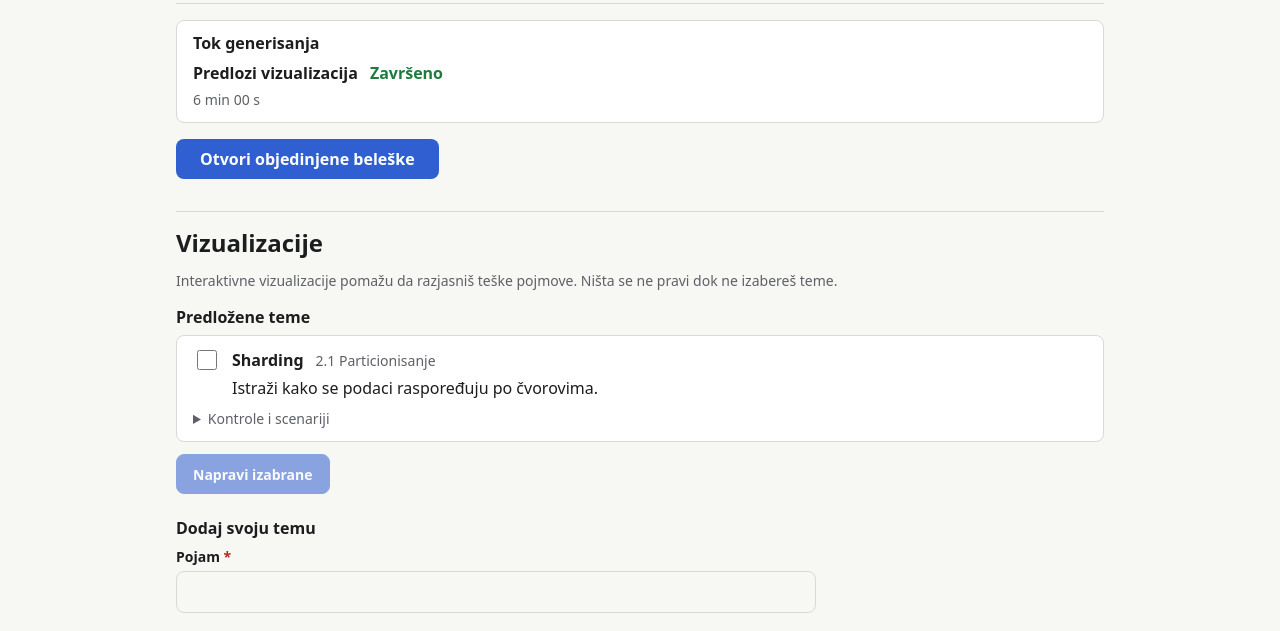
Test case: VizSection (class page) › shows a server error when building cannot start
(page scrolled)
Click the checkbox: (207, 360) [197,350,217,370]
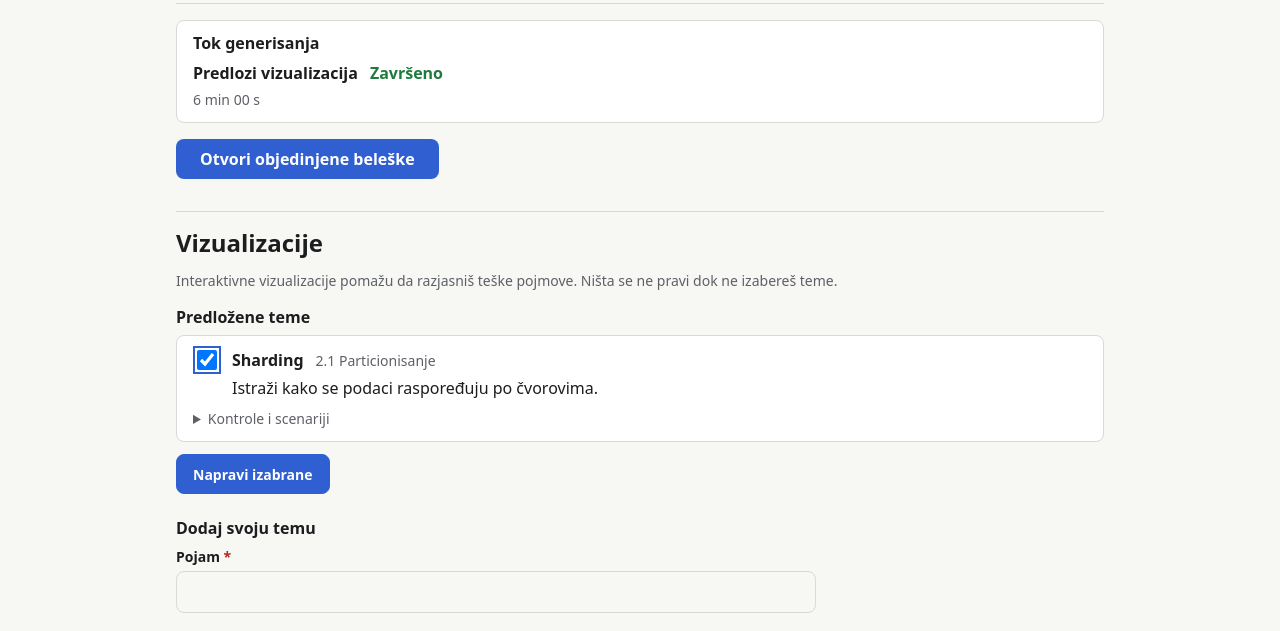
Click the button "Napravi izabrane": (253, 474) [176,454,330,494]
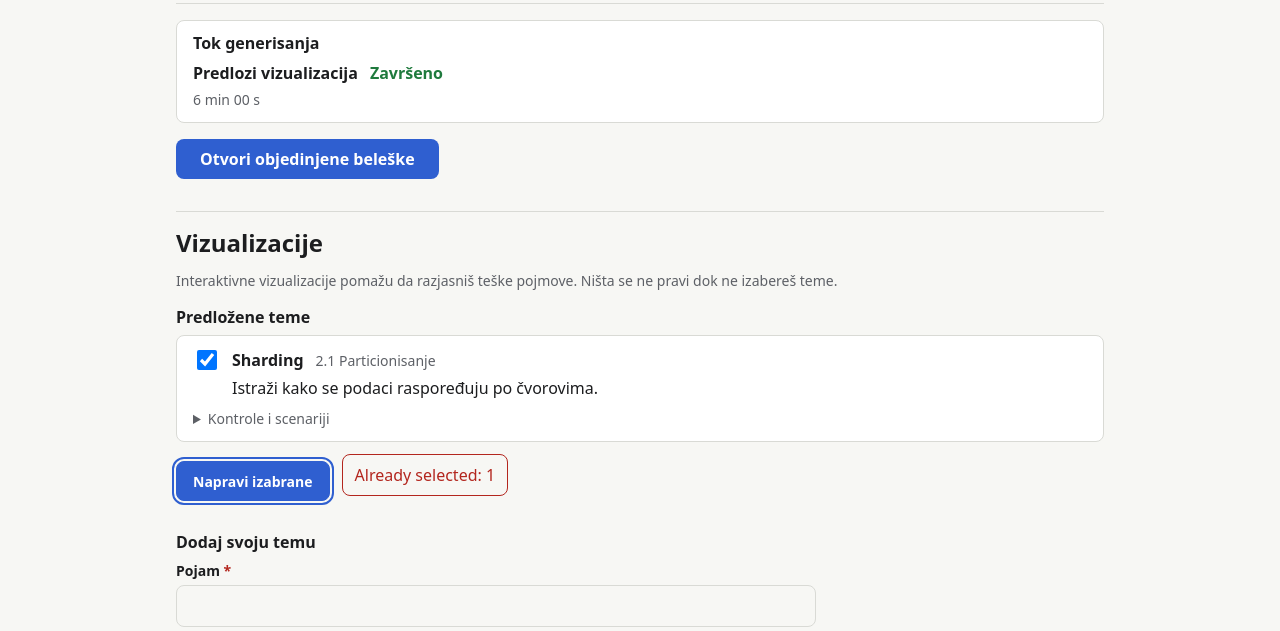
Check: the message reads "Already selected: 1", box [354,464,495,486]
